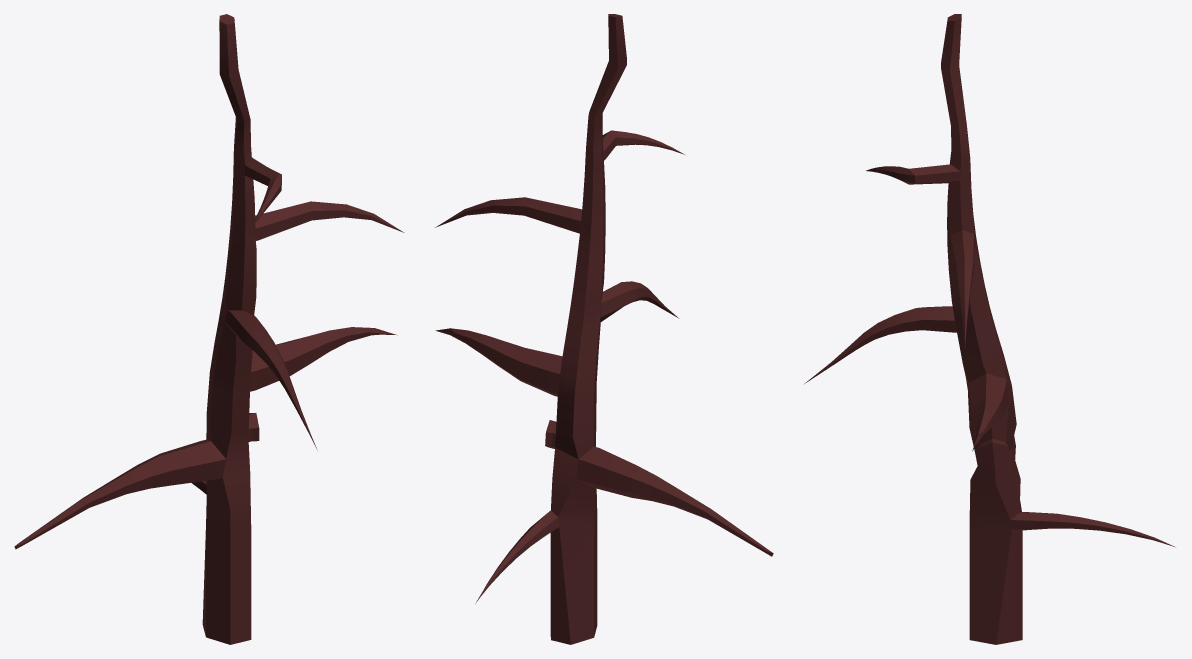
File: noleaves2_lowpoly.fbx
The picture shows the model from 3 angles, left to right: view 1: azimuth 30°, elevation 25°; view 2: azimuth 150°, elevation 25°; view 3: azimuth 270°, elevation 25°; orthographic projection. The views are drawn at different scales.
Visible parts, largest first — view 1: pCylinder1; view 2: pCylinder1; view 3: pCylinder1.
Boxes of the visible parts, x1=… form: pCylinder1: x1=14, y1=14, x2=404, y2=644; pCylinder1: x1=435, y1=14, x2=773, y2=644; pCylinder1: x1=804, y1=14, x2=1175, y2=644.
Size of the model in its own units: 5.66 by 9.22 by 5.15.
